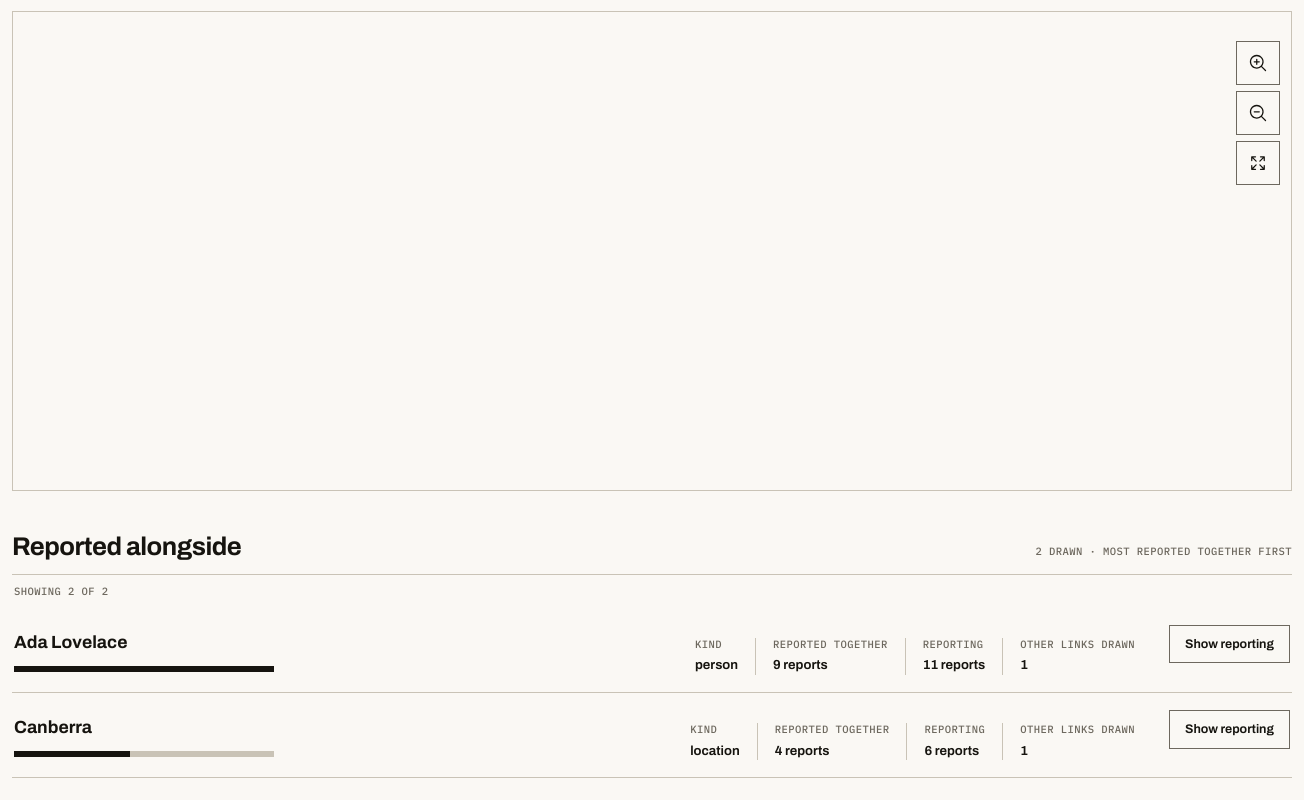
Test case: An Entity's neighbourhood — the reporting under one link › states the whole weight of the link beside the reporting it lists
(page scrolled)
Click the button "Show reporting" in the row of "Ada Lovelace". click: click(1230, 644)
box: [1169,625,1290,663]
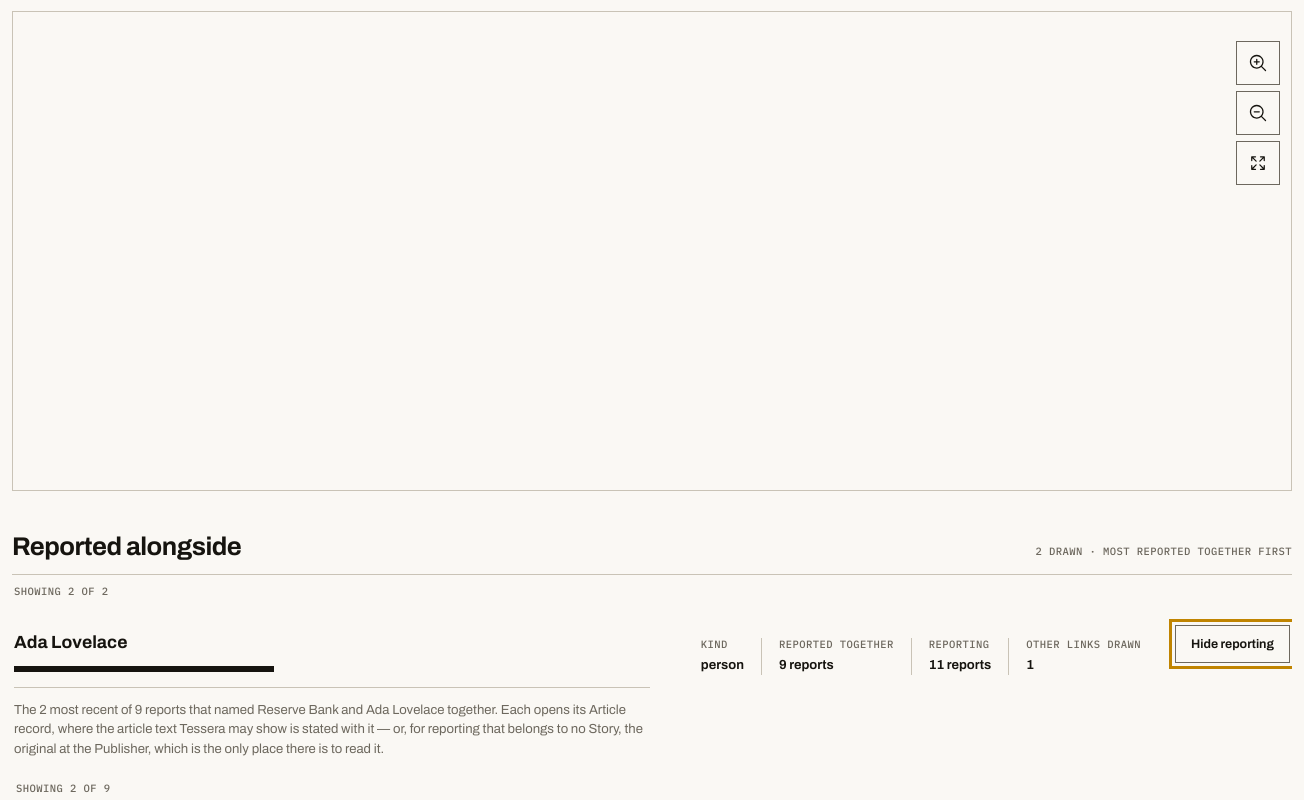
expect the text "The 2 most recent of 9 reports that named Reserve Bank and Ada Lovelace together" is shown: met, box [14,702,498,717]
